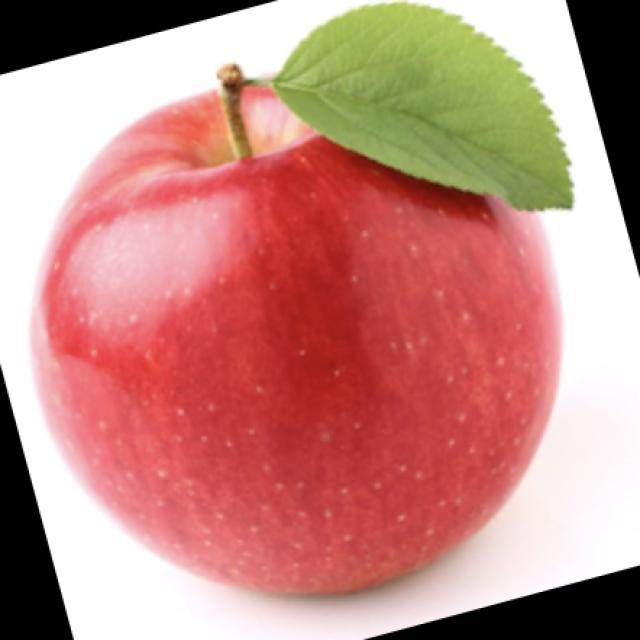Orange: (27, 0, 570, 598)
